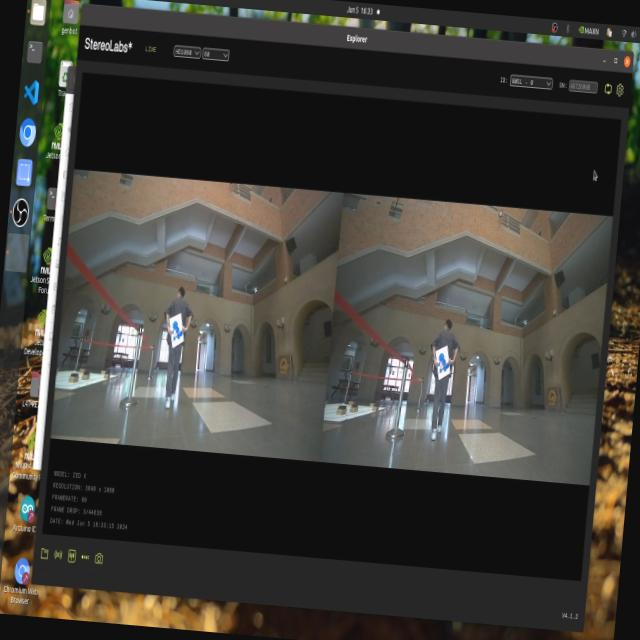blue: (163, 316, 189, 358), (431, 348, 453, 380)
